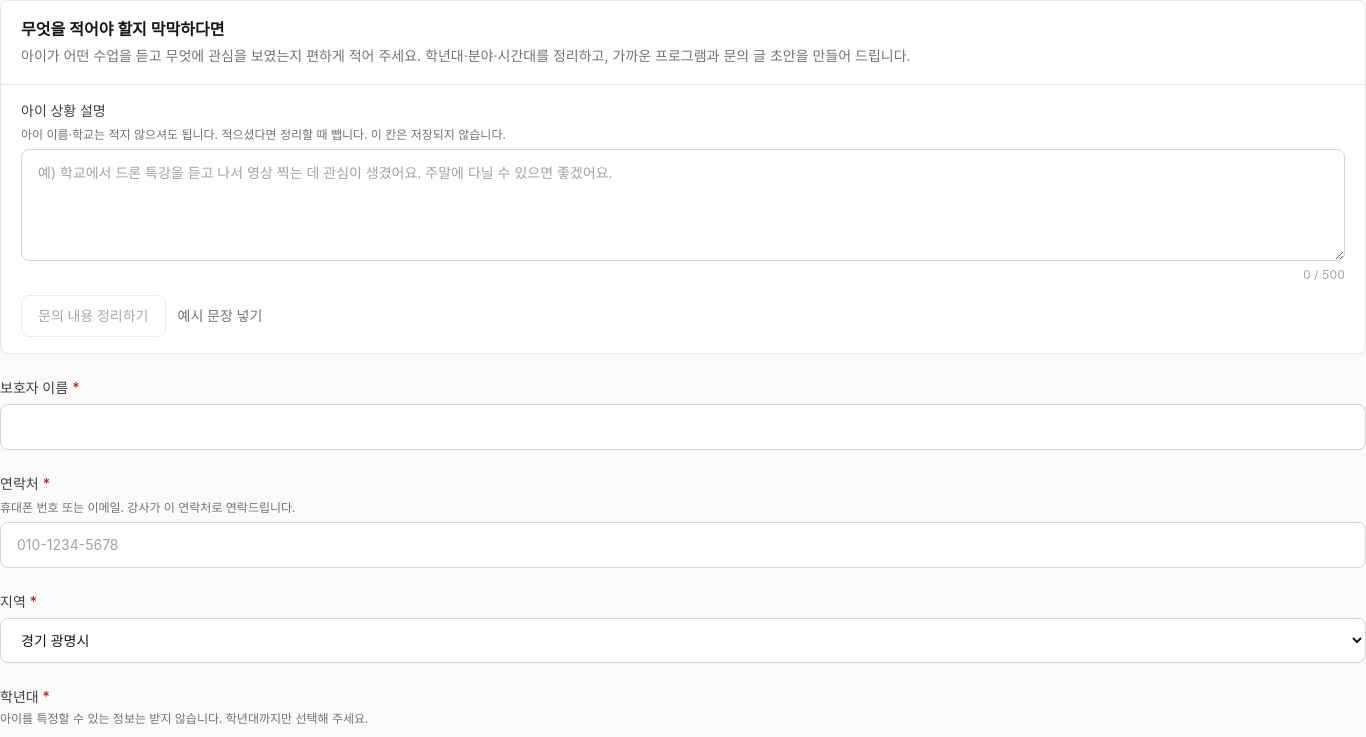
Test: 보호자 문의 도우미 › 규칙 초안이면 AI 문구를 쓰지 않는다
In the text box labelled "아이 상황 설명": (683, 205) [21,149,1345,261], type "중학생 아들이 드론 특강 듣고 영상 찍는 데 푹 빠졌어요"
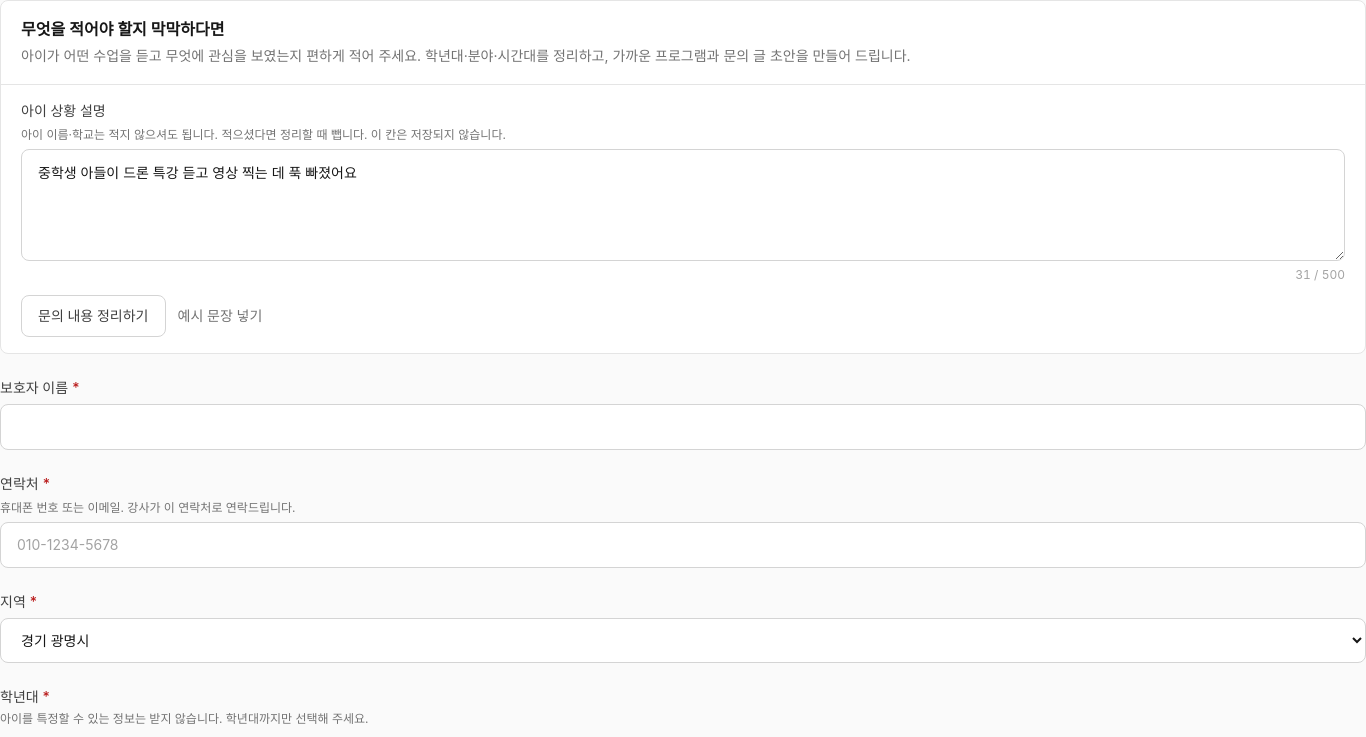
Click the button "문의 내용 정리하기": (93, 316) [21,295,166,337]
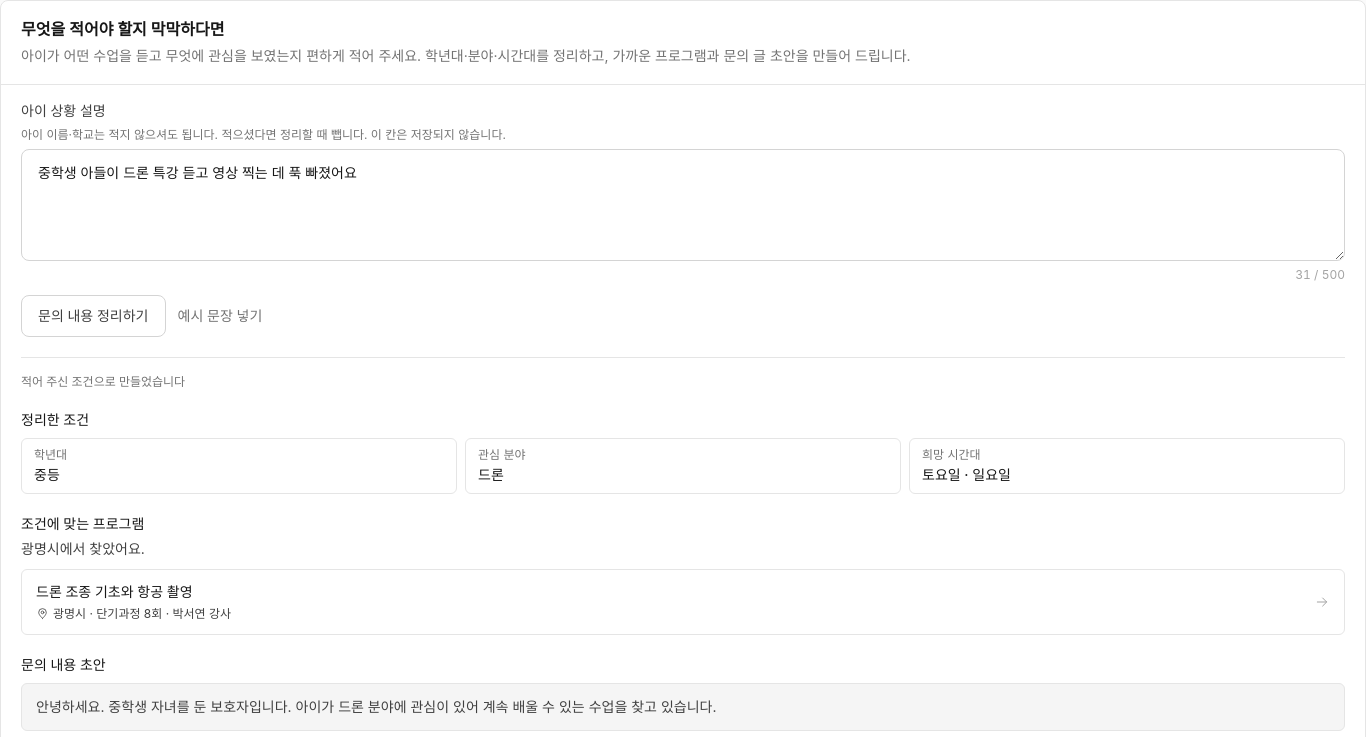
Expected: the text "안녕하세요. 중학생 자녀를 둔 보호자입니다. 아이가 드론 분야에 관심이 있어 계속 배울 수 있는 수업을 찾고 있습니다." is shown, [21,682,1345,731]
Expected: the text "적어 주신 조건으로 만들었습니다" is shown, [21,374,185,389]
